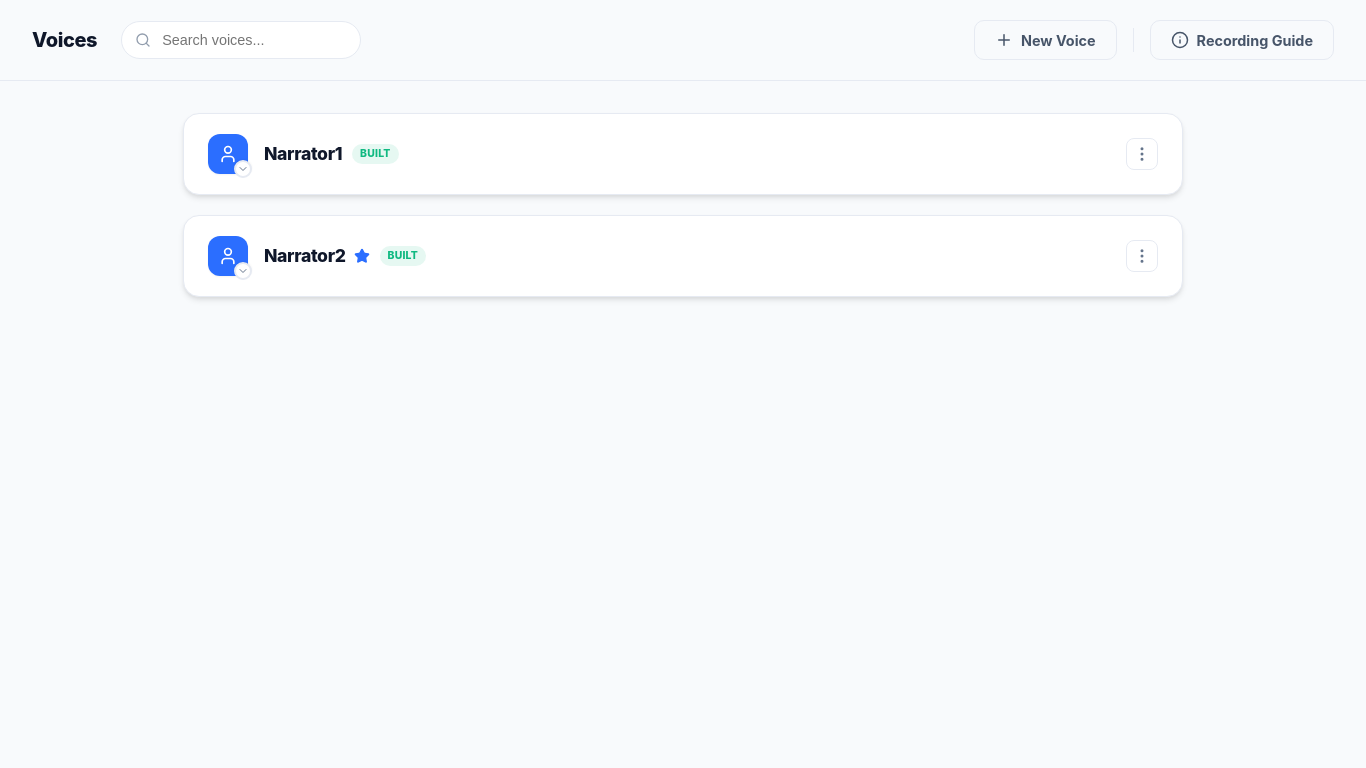
Test: VoicesTab › shows the default narrator pill
The width and height of the screenshot is (1366, 768).
Expand card to see variant tabs
Click the heading "Narrator2": (317, 256) [264,242,370,270]
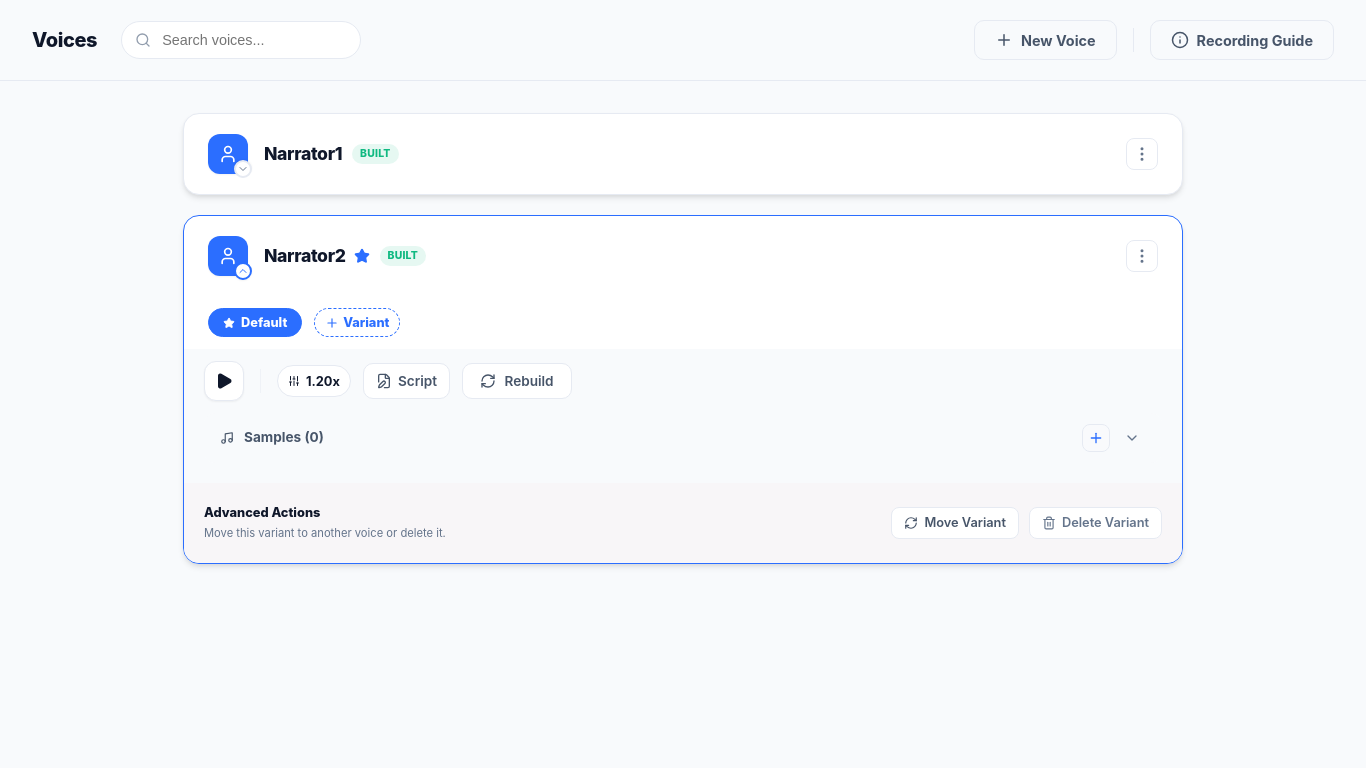
Check: the button "Default" is shown, box [208,308,302,337]
